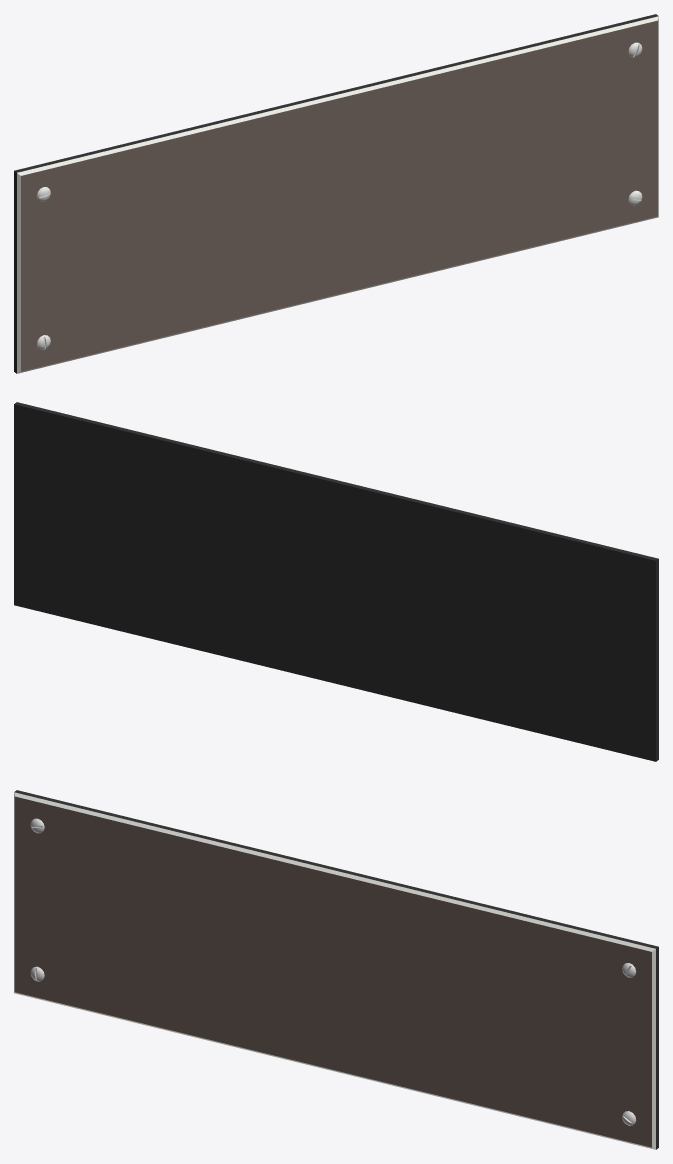
File: Kit_DoorSign.fbx
3 views of the same model, one above another, from view 1: azimuth 30°, elevation 25°; view 2: azimuth 150°, elevation 25°; view 3: azimuth 330°, elevation 25° (orthographic).
Parts seen in each view (by area): view 1: Kit_DoorSign_LOD0; view 2: Kit_DoorSign_LOD0; view 3: Kit_DoorSign_LOD0.
Part boxes in pixels (x1=…): Kit_DoorSign_LOD0: x1=14, y1=14, x2=658, y2=373; Kit_DoorSign_LOD0: x1=14, y1=402, x2=658, y2=761; Kit_DoorSign_LOD0: x1=14, y1=790, x2=658, y2=1149.
Size of what is drawn, in the model's own units: 0.254 by 0.076 by 0.00434.
